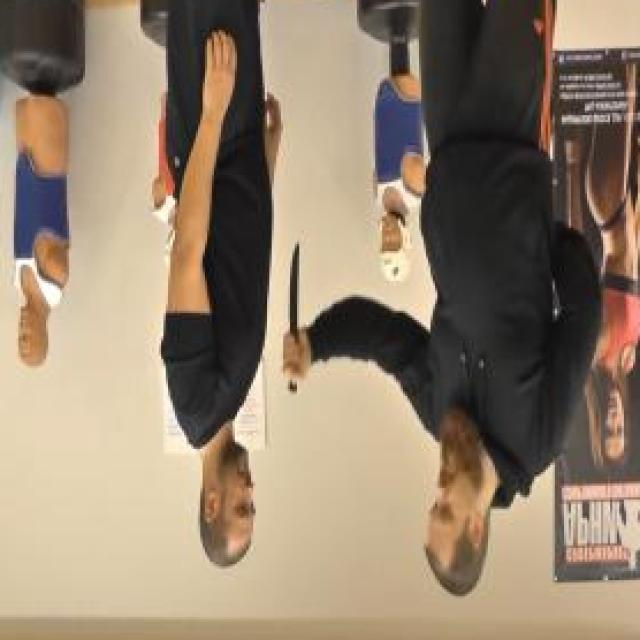knife: (278, 235, 308, 398)
